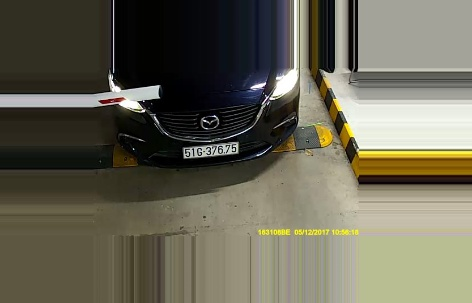plate: (181, 143, 240, 159)
